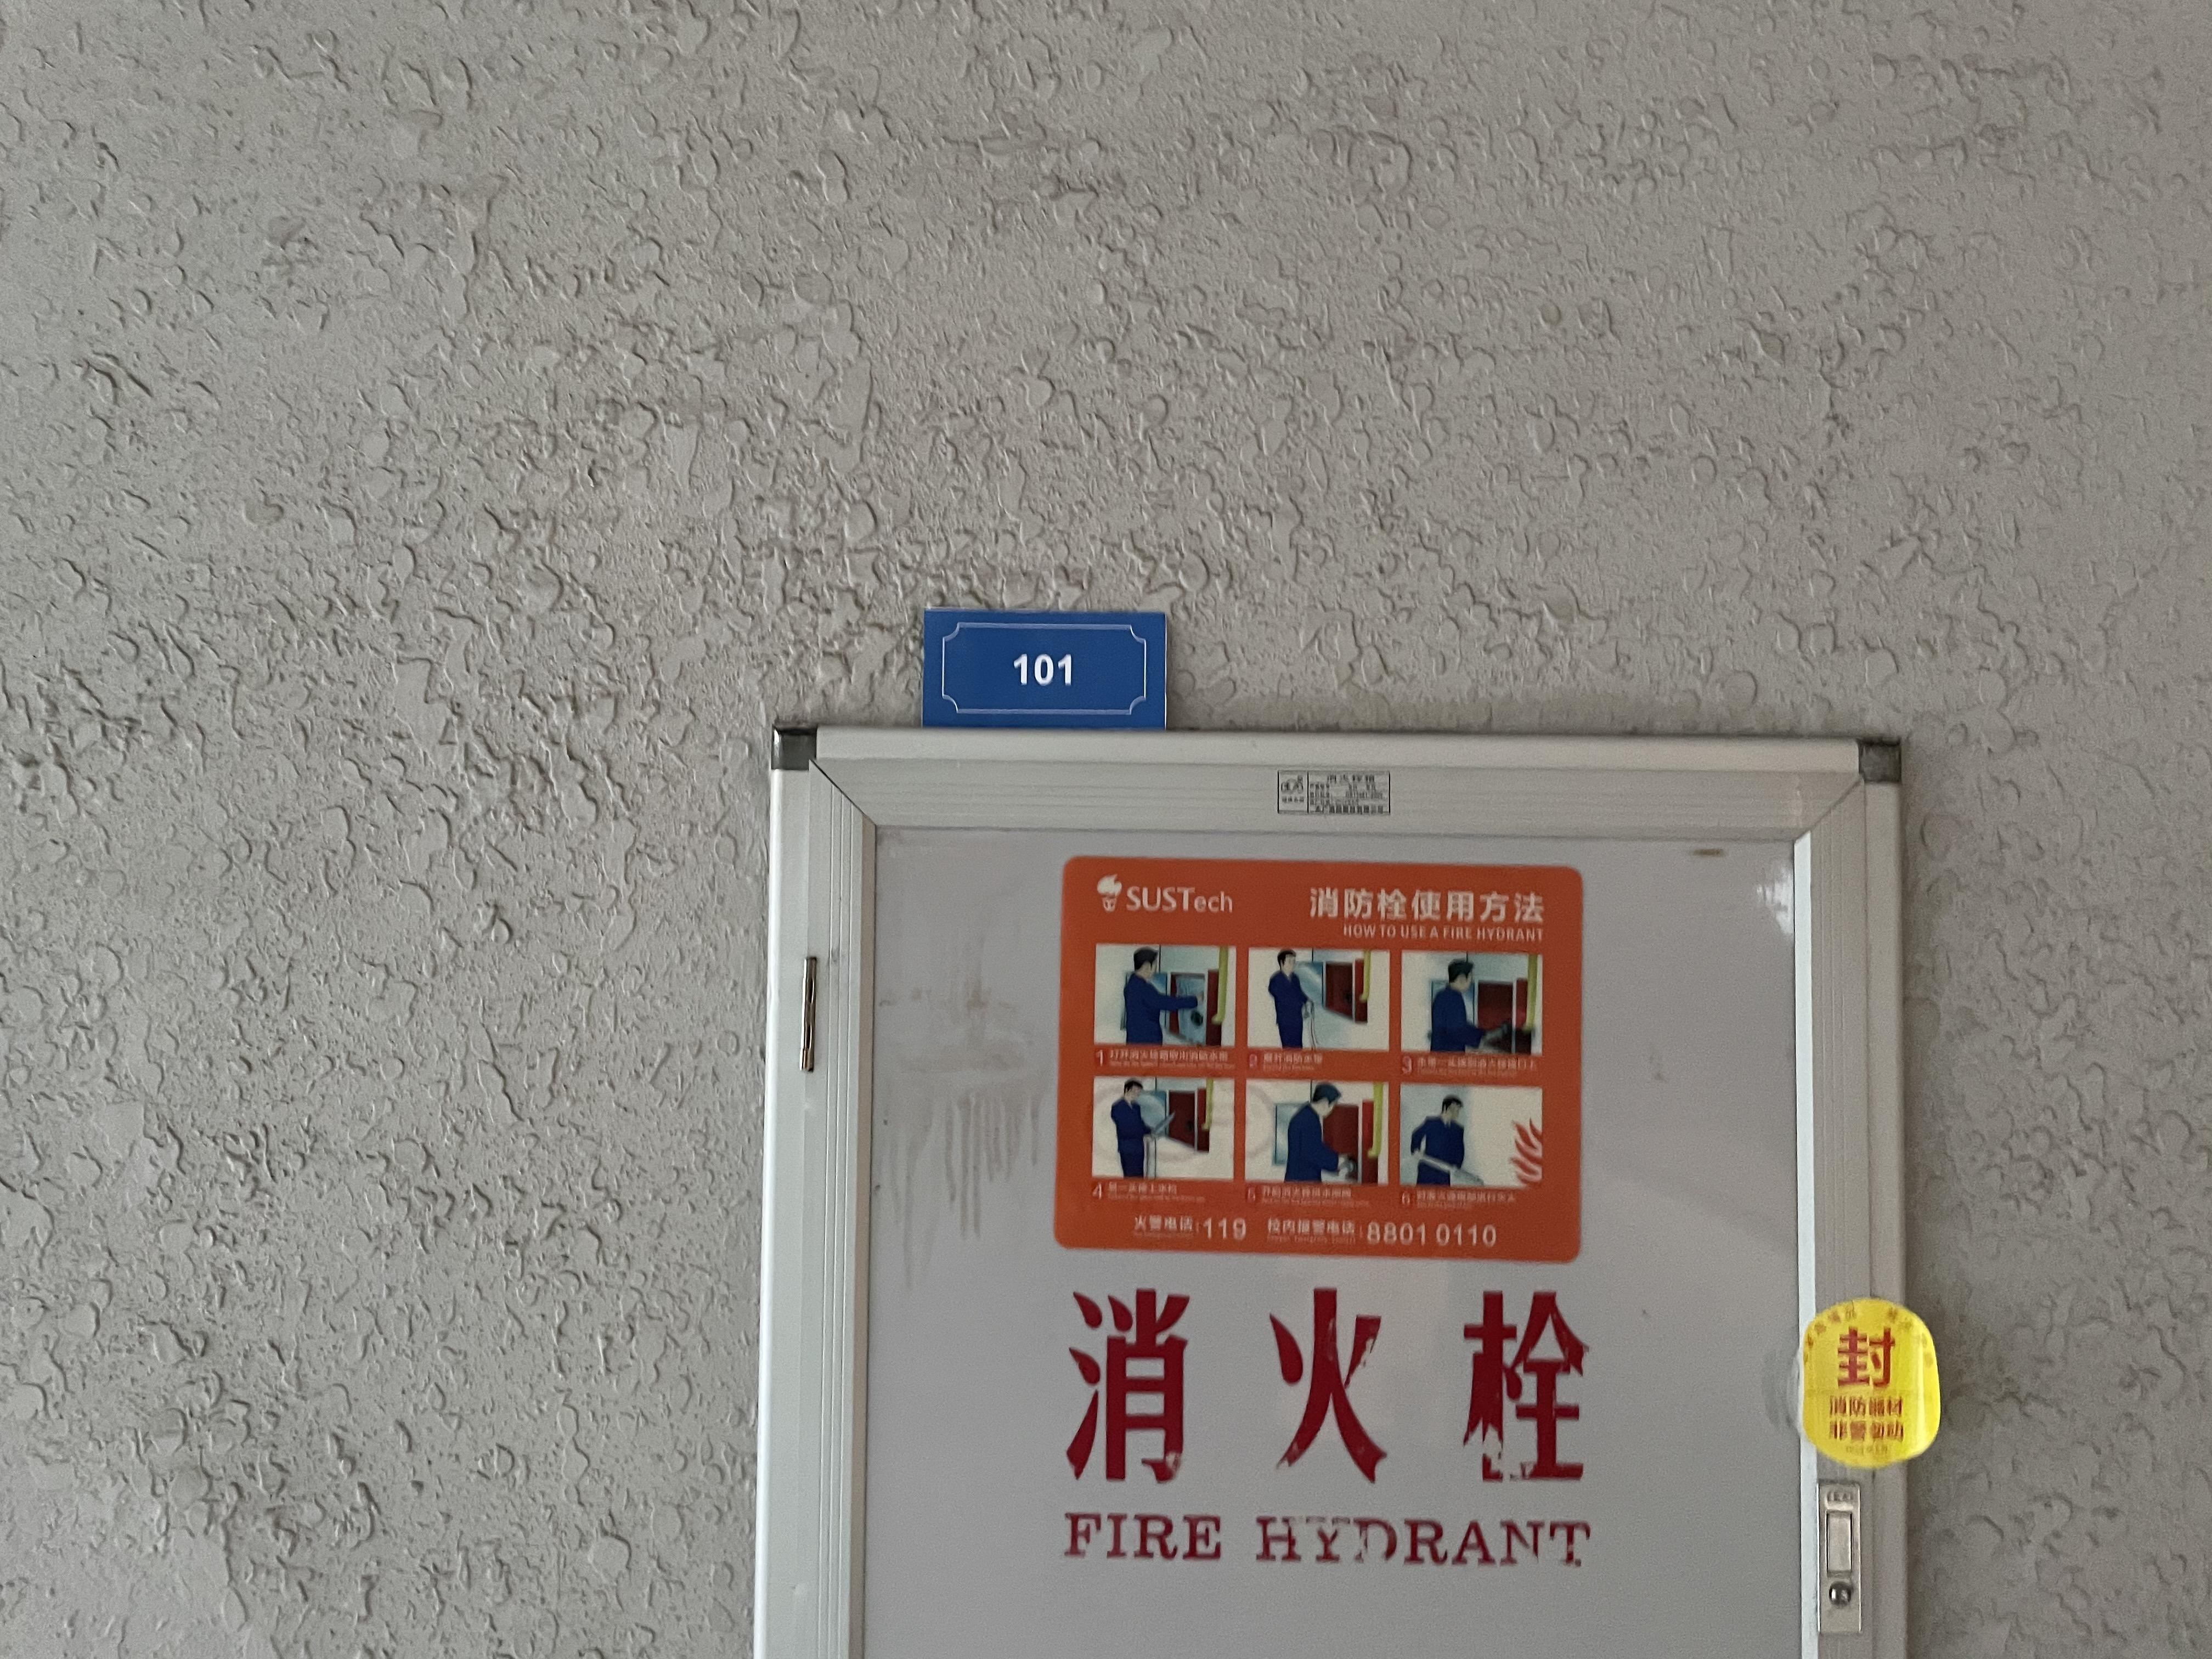Card: (900, 579, 1188, 757)
